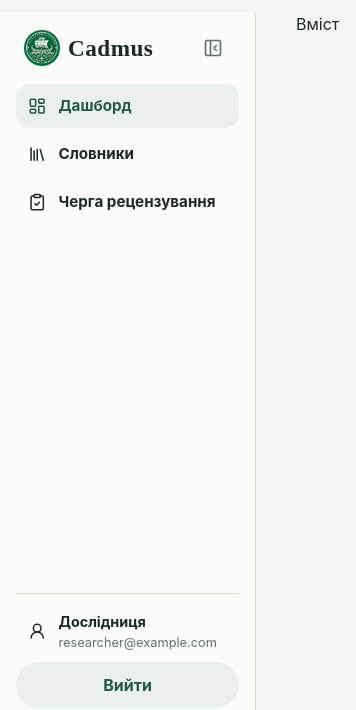
Test: AppShell sidebar collapse › collapses on toggle and persists the choice
The width and height of the screenshot is (356, 710).
Click the button named "Згорнути бічну панель" at (213, 48), box [195,30,231,66]
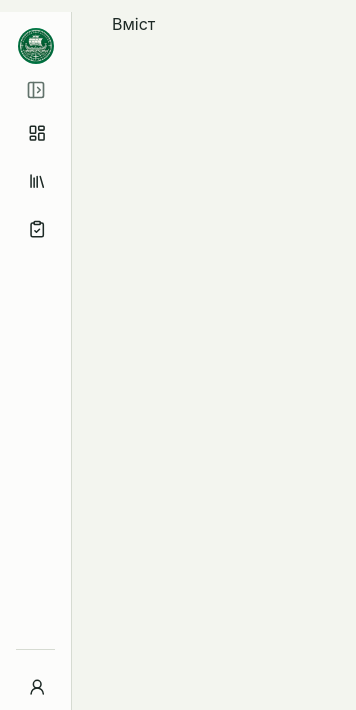
Expected: the button named "Розгорнути бічну панель" is shown, [18,72,54,108]
